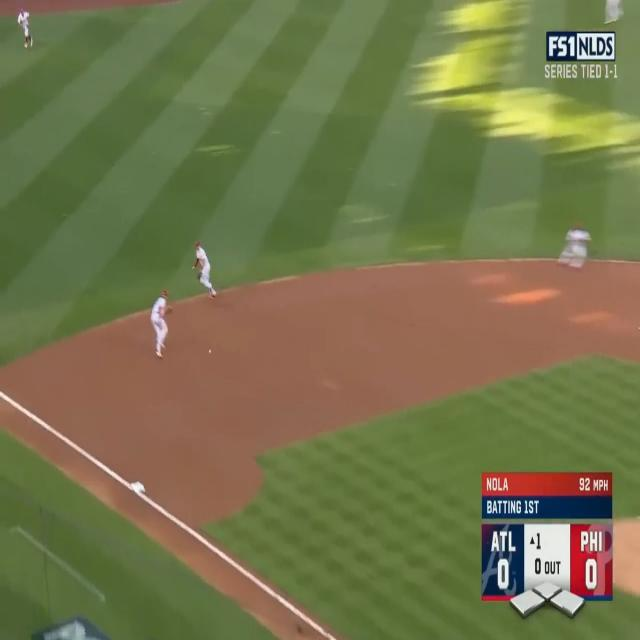baseball: (209, 348, 211, 354)
